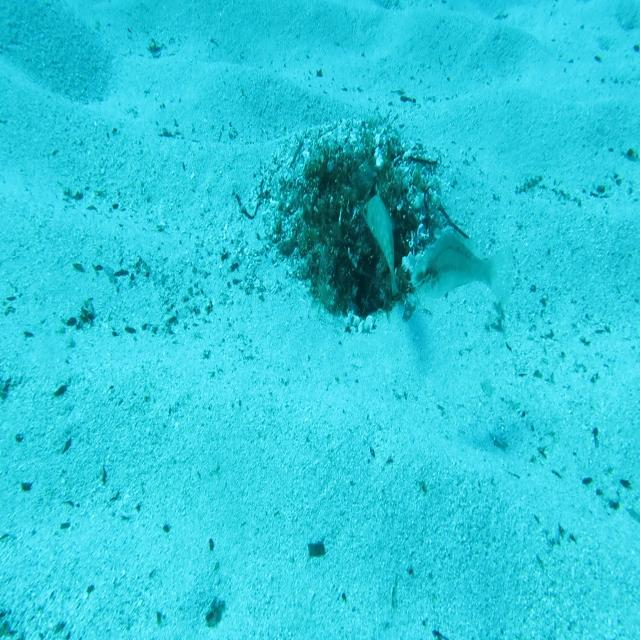FAN: (362, 184, 402, 300)
core_nest: (330, 168, 380, 204)
female: (409, 224, 516, 310)
nest: (258, 104, 460, 342)
vegetation: (304, 538, 329, 558)
